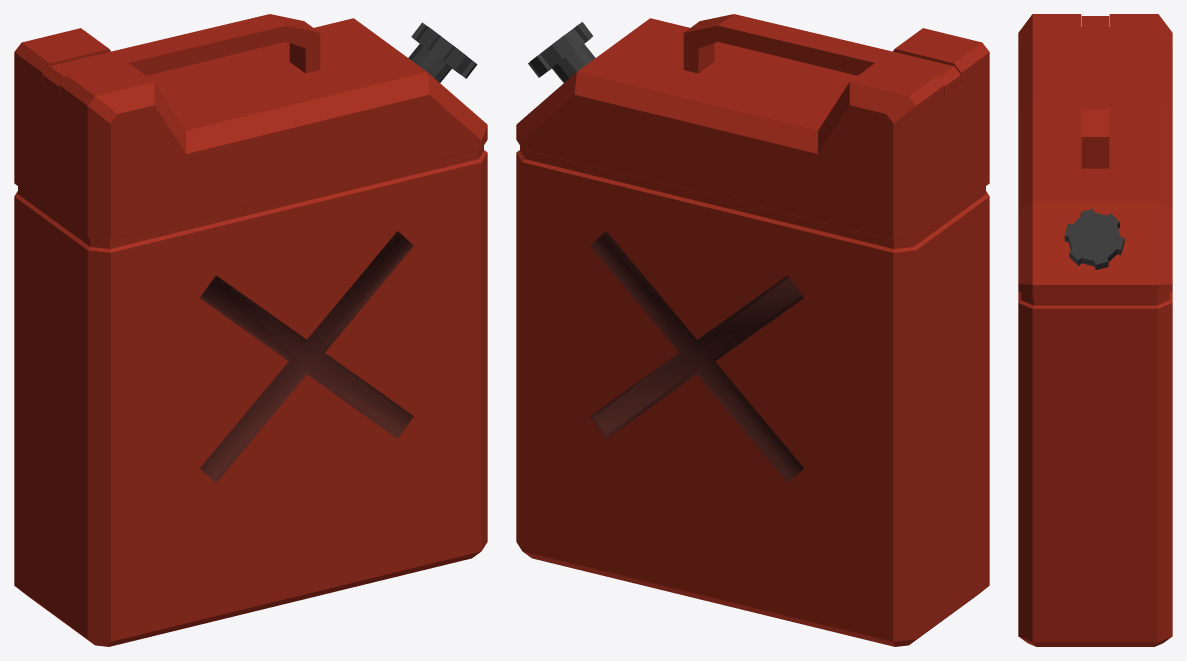
File: GasCan_1.fbx
3 views of the same model, side by side, from view 1: azimuth 30°, elevation 25°; view 2: azimuth 150°, elevation 25°; view 3: azimuth 270°, elevation 25° (orthographic). The views are drawn at different scales.
Visible parts, largest first — view 1: GasCan_1; view 2: GasCan_1; view 3: GasCan_1.
Boxes of the visible parts, bbox=[...] form: GasCan_1: bbox=[14, 14, 487, 646]; GasCan_1: bbox=[516, 14, 989, 646]; GasCan_1: bbox=[1018, 14, 1172, 646].
Bounding box in the file's own units: 53.42 × 67.03 × 19.87.
